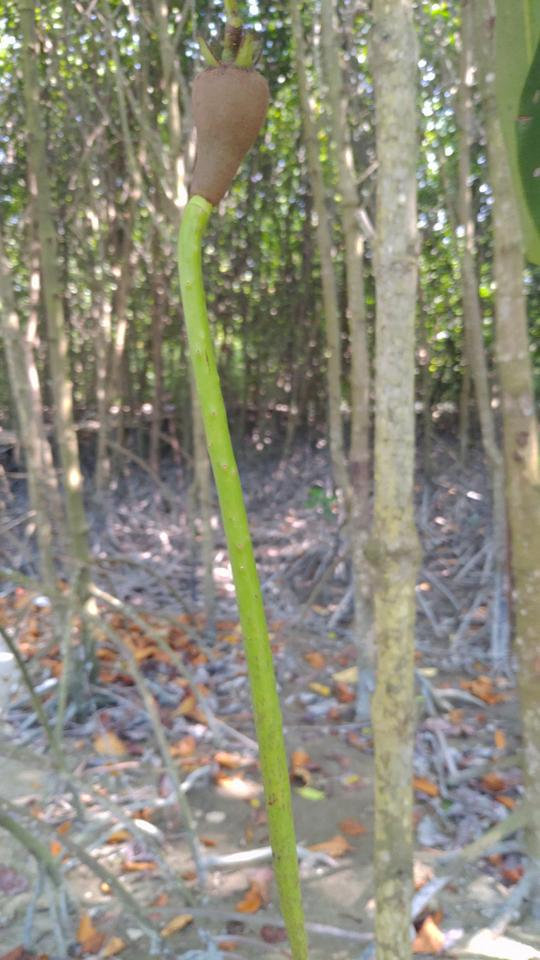setengah matang: (158, 21, 330, 958)
